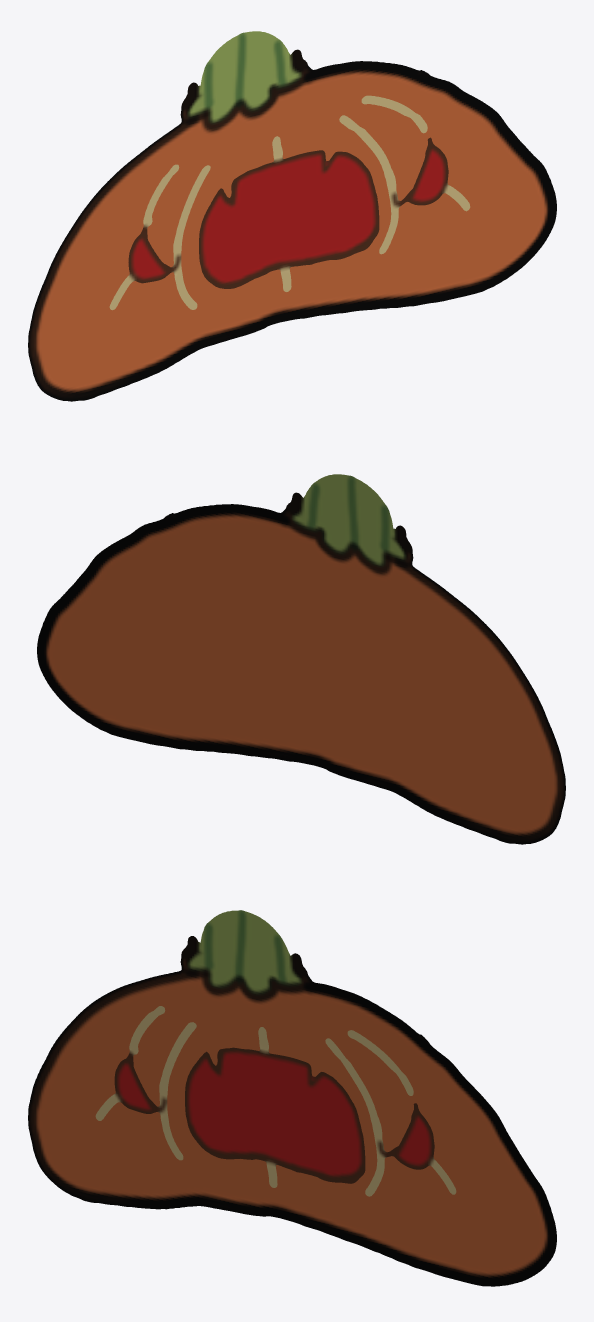
The model's file is nanguaTou_fire.FBX.
The picture shows the model from 3 angles, top to bottom: view 1: azimuth 30°, elevation 25°; view 2: azimuth 150°, elevation 25°; view 3: azimuth 330°, elevation 25°; orthographic projection.
Visible parts, largest first — view 1: nanguaTou_fire; view 2: nanguaTou_fire; view 3: nanguaTou_fire.
Boxes of the visible parts, left/top/right/bottom form: nanguaTou_fire: left=28, top=31, right=556, bottom=401; nanguaTou_fire: left=37, top=474, right=565, bottom=844; nanguaTou_fire: left=28, top=910, right=556, bottom=1286.
Bounding box in the file's own units: 210 × 125 × 4.48.
